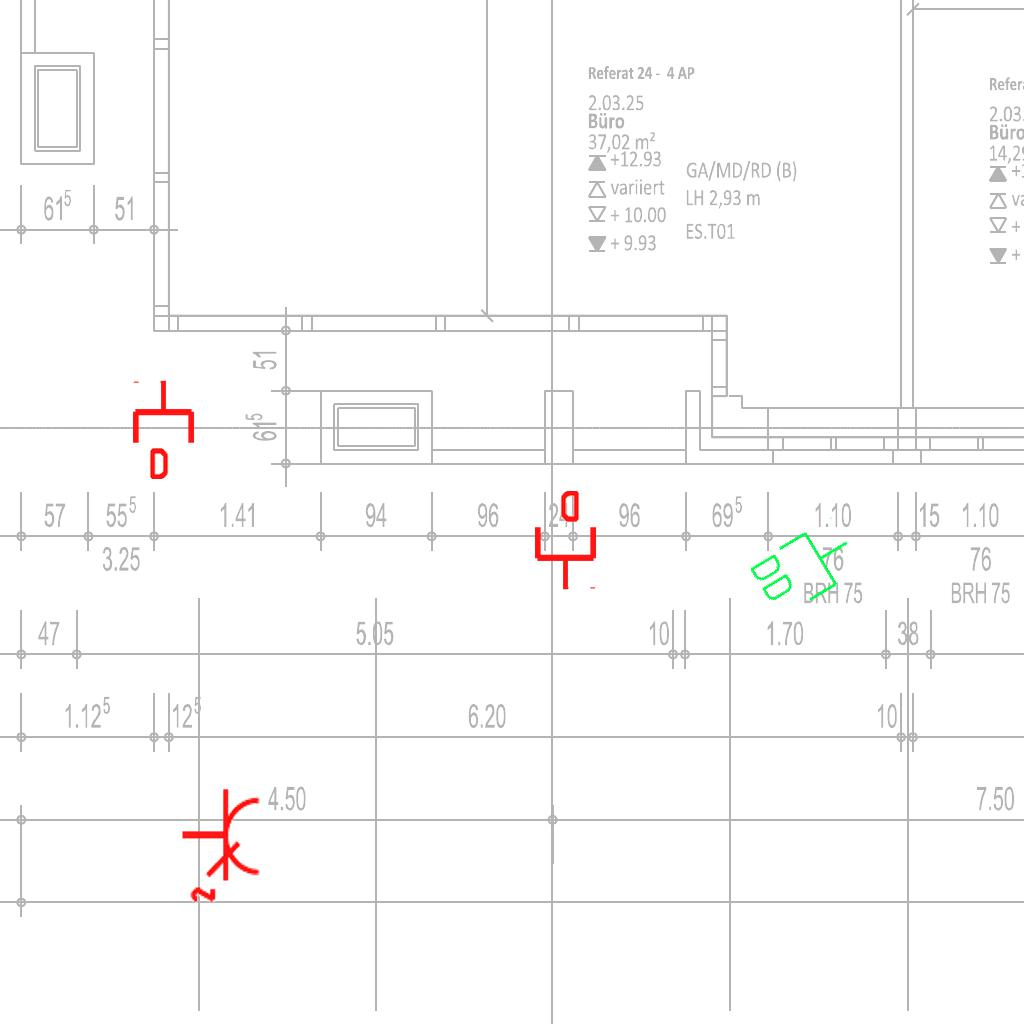Datenanschluss_einfach: (531, 491, 600, 591), (129, 379, 198, 479)
Datenanschluss_zweifach: (742, 511, 867, 624)
Schukosteckdose_mehrfach: (176, 784, 264, 905)
